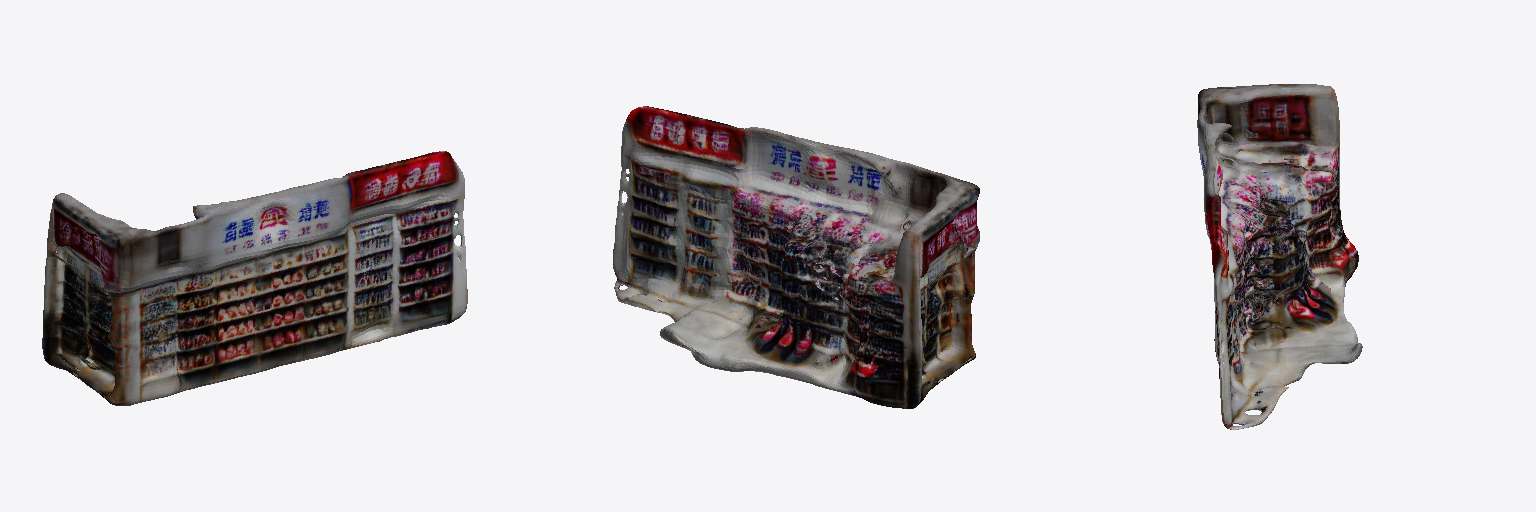
3 views of the same model, side by side, from view 1: azimuth 30°, elevation 25°; view 2: azimuth 150°, elevation 25°; view 3: azimuth 270°, elevation 25° (orthographic).
Parts seen in each view (by area): view 1: mesh; view 2: mesh; view 3: mesh.
Part boxes in pixels (x1,y1,x2,y2): mesh: (42, 151, 467, 405); mesh: (613, 106, 979, 408); mesh: (1197, 84, 1362, 429).
Size of the model in its own units: 0.9991 by 0.4811 by 0.3893.
Materials: 1 (1 with a texture image).